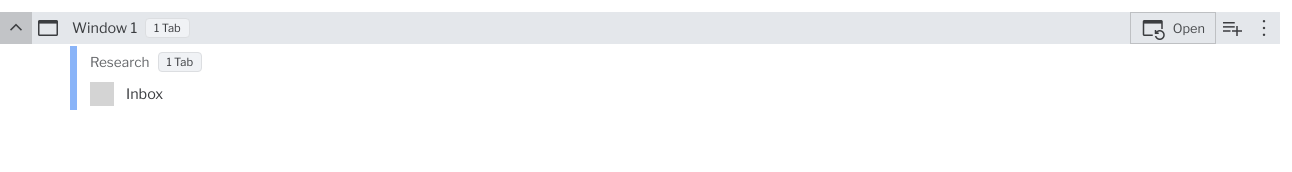
Test: committing a rename › the draft is seeded with the current name, not left blank
The width and height of the screenshot is (1292, 172).
Click the button with aria-label "Rename group: Research" at point(118, 62), box left=86, top=46, right=150, bottom=78
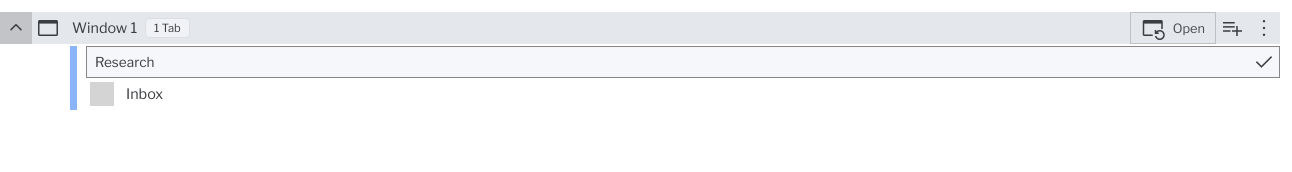
Expected: the field named "Rename group: Research" holds "Research", left=86, top=46, right=1280, bottom=78
